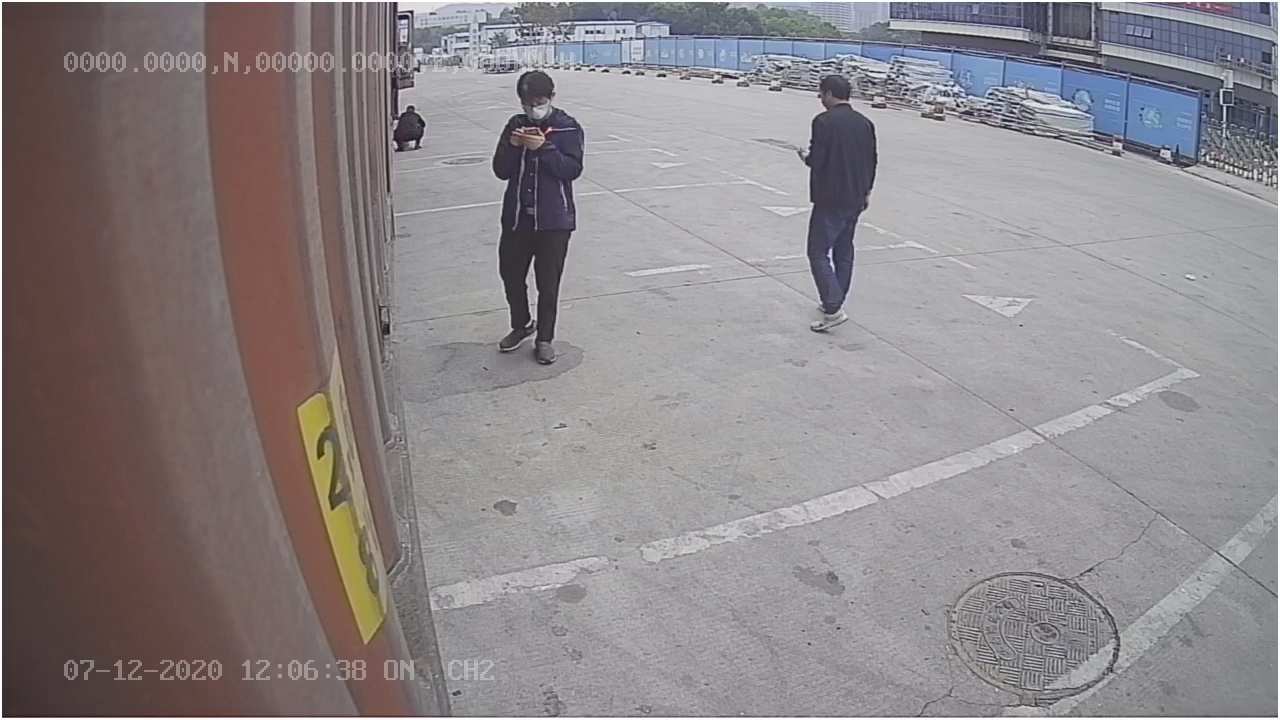person: (490, 63, 589, 365), (792, 67, 881, 332)
